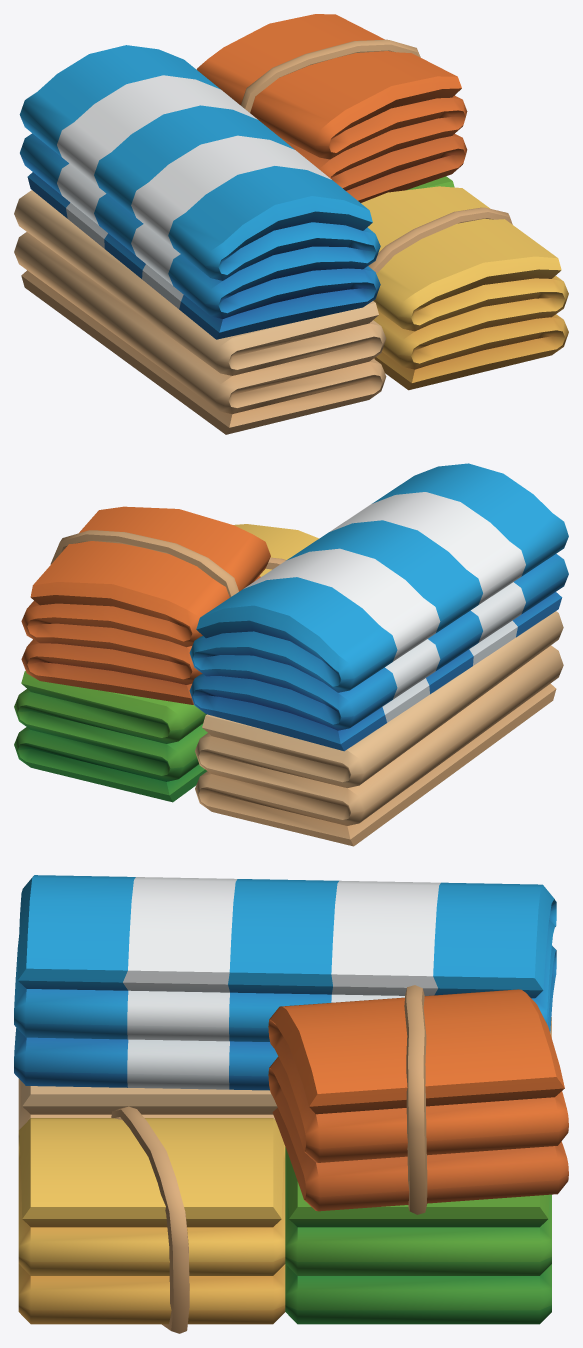
File: Textiles_Stack_Large_Colored.glb
The picture shows the model from 3 angles, top to bottom: view 1: azimuth 30°, elevation 25°; view 2: azimuth 150°, elevation 25°; view 3: azimuth 270°, elevation 25°; orthographic projection. The views are drawn at different scales.
Parts seen in each view (by area): view 1: Textiles_Stack_Large_Colored; view 2: Textiles_Stack_Large_Colored; view 3: Textiles_Stack_Large_Colored.
Part boxes in pixels (left/top/right/bottom): Textiles_Stack_Large_Colored: left=14, top=14, right=568, bottom=434; Textiles_Stack_Large_Colored: left=14, top=463, right=568, bottom=846; Textiles_Stack_Large_Colored: left=14, top=875, right=568, bottom=1333.
Bounding box in the file's own units: 1.64 × 0.9556 × 1.66.
Materials: 1 (1 with a texture image).
